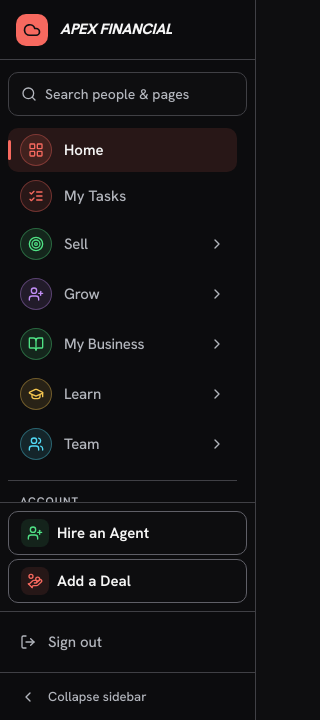
Test: GlobalSidebar · AgentCloud application navigation › shows the recruiting workspace to manager
Click the button "Grow" at (122, 294), box [8,272,237,316]
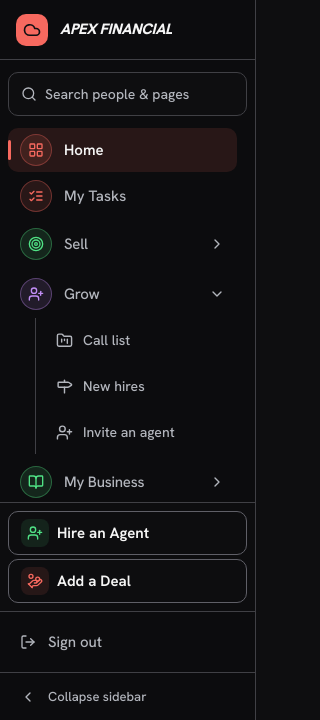
Result: the button "Grow" is expanded at [8,272,237,316]
Result: the link "Call list" is shown at [56,331,130,349]
